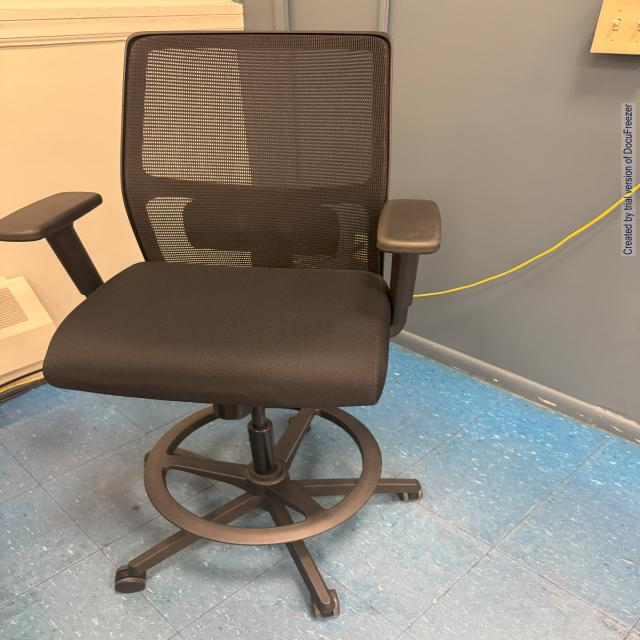chair: (2, 26, 488, 623)
